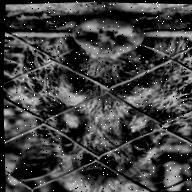boar: (1, 10, 192, 192)
